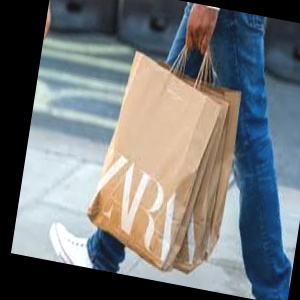zara: (143, 77, 230, 243)
